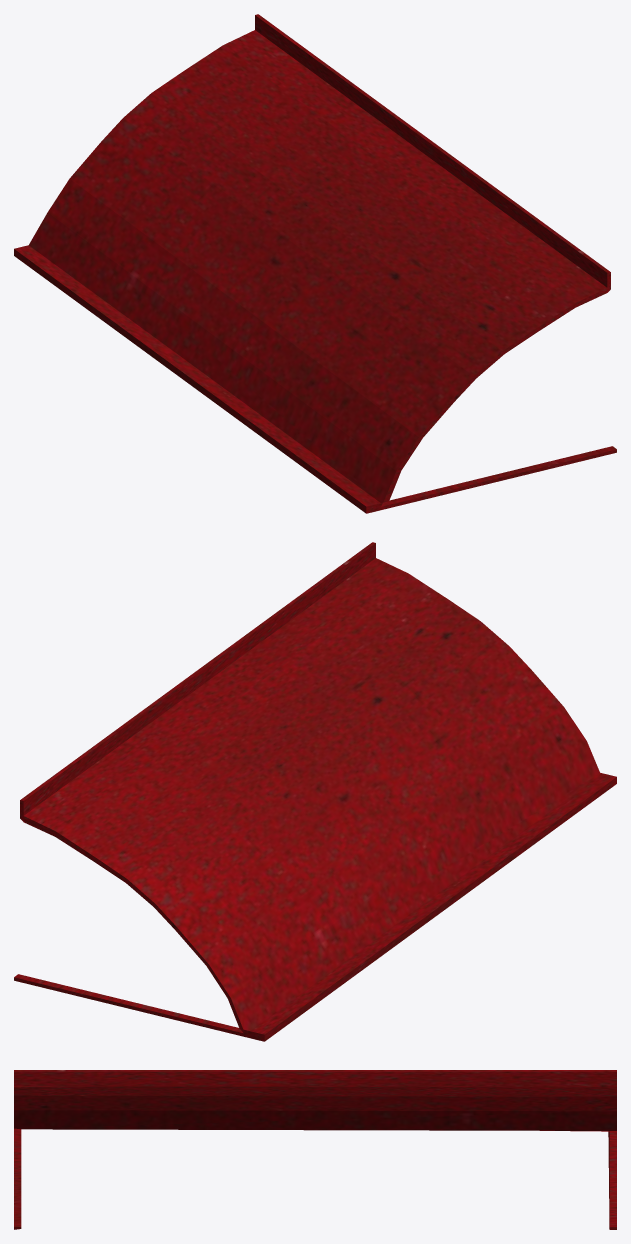
Rendered from roof4.FBX.
3 views of the same model, one above another, from view 1: azimuth 30°, elevation 25°; view 2: azimuth 150°, elevation 25°; view 3: azimuth 270°, elevation 25° (orthographic). The views are drawn at different scales.
Visible parts, largest first — view 1: Box001; view 2: Box001; view 3: Box001.
Part boxes in pixels (x1,y1,x2,y2): Box001: [14, 14, 616, 513]; Box001: [14, 542, 616, 1041]; Box001: [14, 1070, 616, 1229].
Size of the model in its own units: 12.55 by 8.71 by 30.57.
